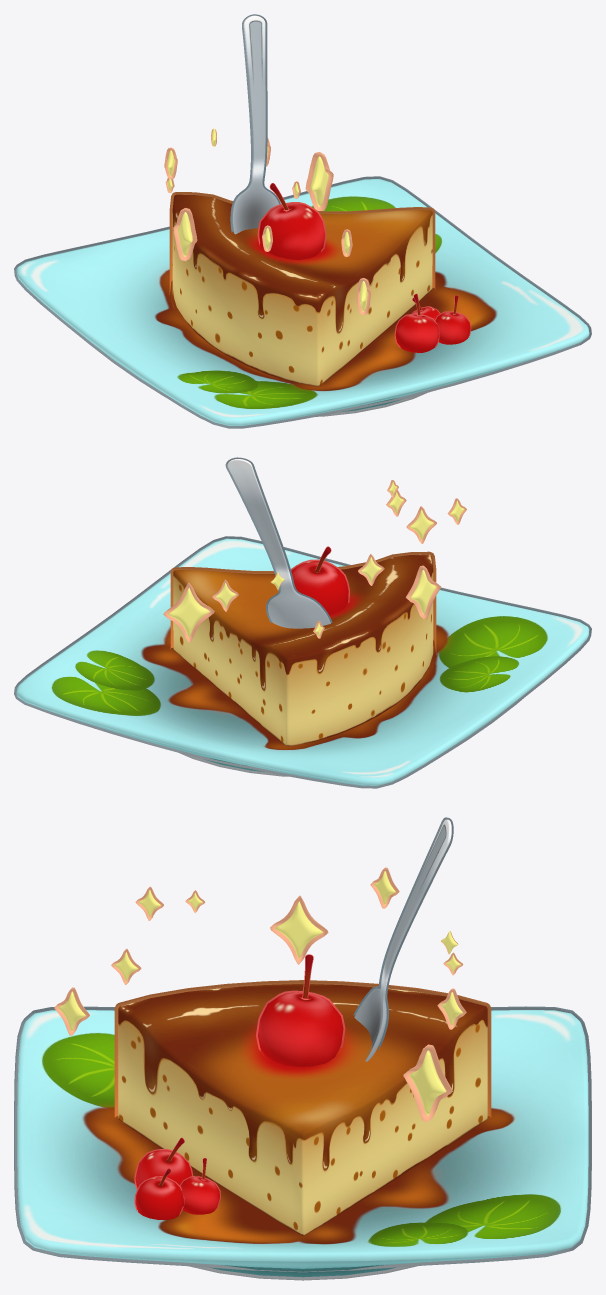
The model's file is flan_quesillo.glb.
The picture shows the model from 3 angles, top to bottom: view 1: azimuth 30°, elevation 25°; view 2: azimuth 150°, elevation 25°; view 3: azimuth 270°, elevation 25°; orthographic projection. The views are drawn at different scales.
Parts seen in each view (by area): view 1: Quesillo; view 2: Quesillo; view 3: Quesillo.
Part boxes in pixels (box(x1,y1,x2,y2)): Quesillo: box(14, 14, 591, 428); Quesillo: box(14, 457, 591, 788); Quesillo: box(14, 817, 591, 1280).
Size of the model in its own units: 1.68 by 1.21 by 1.68.
2 materials, 2 textured.
